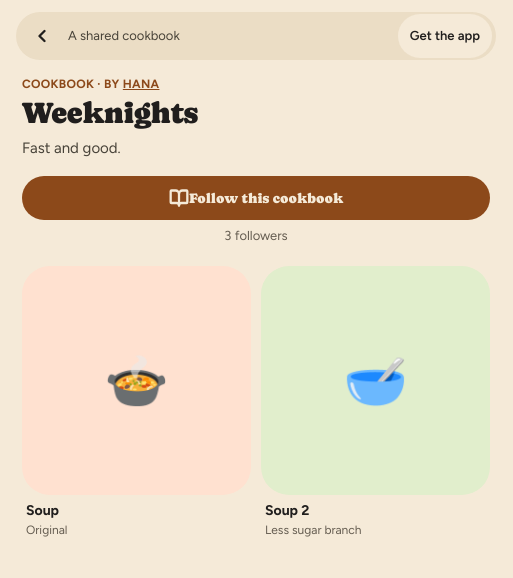
it: CookbookPage › shows a failure like profile Follow and keeps the state
This screenshot has width=513, height=578.
Click the button "Follow this cookbook".
click(256, 198)  # box [22, 176, 490, 220]
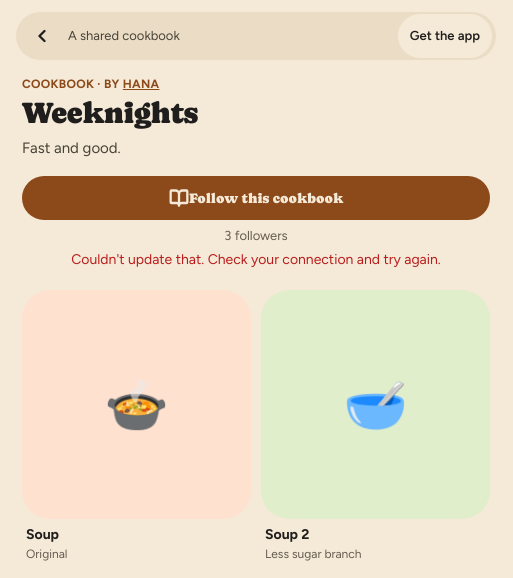
Expected: the text "3 followers" is shown, [224, 228, 288, 243]
Result: the message "Couldn't update that. Check your connection and try again." is shown at [71, 251, 441, 268]
